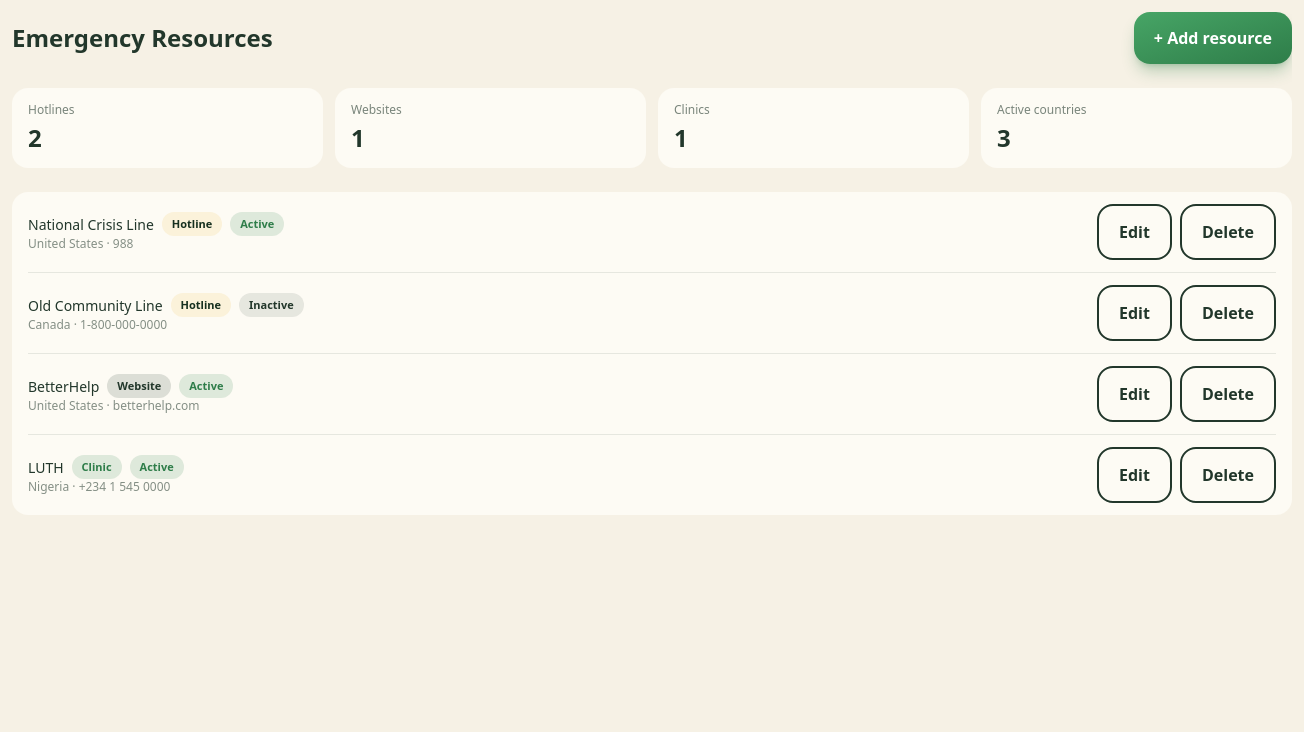
it: AdminEmergencyPage › deleting a resource › invalidates the emergency dashboard query and closes the confirm row after a successful delete
Click the button "Delete" in the row of "betterhelp.com" at (1228, 394), box [1180, 366, 1276, 422]
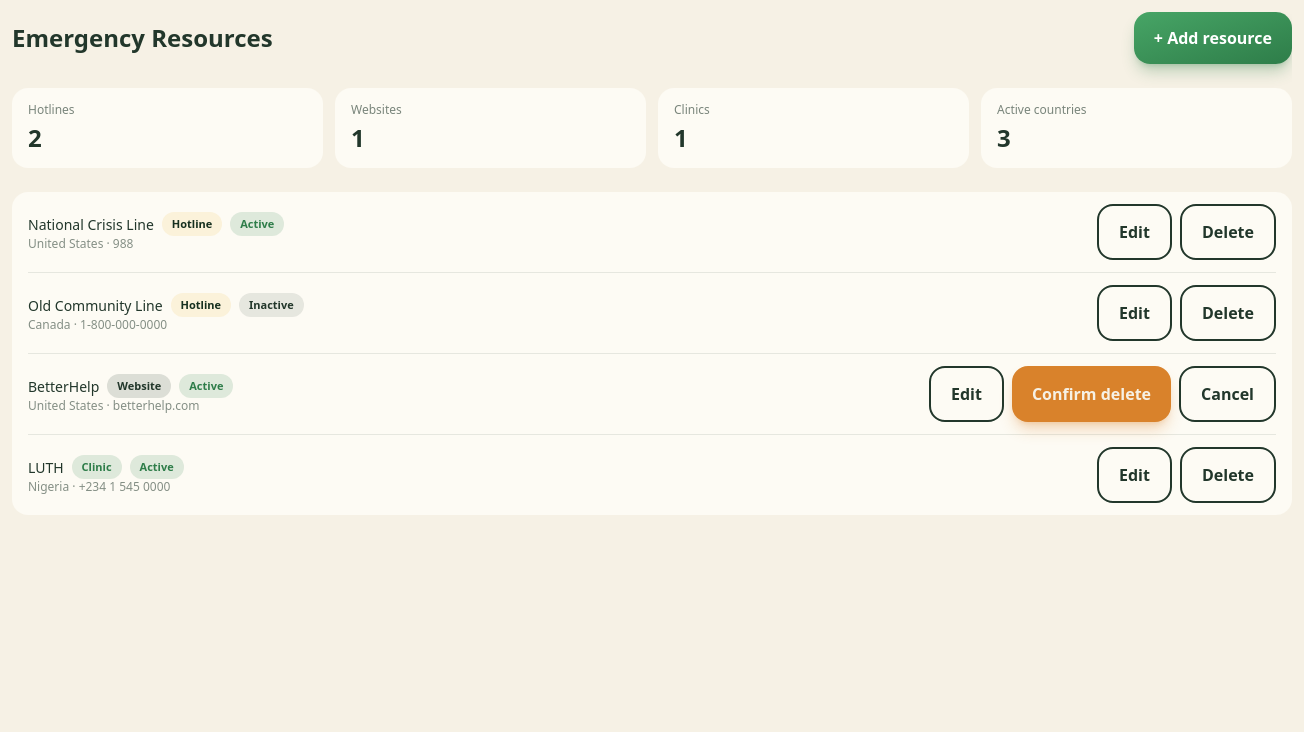
Click the button with aria-label "Confirm delete BetterHelp" at (1091, 394), box [1012, 366, 1171, 422]
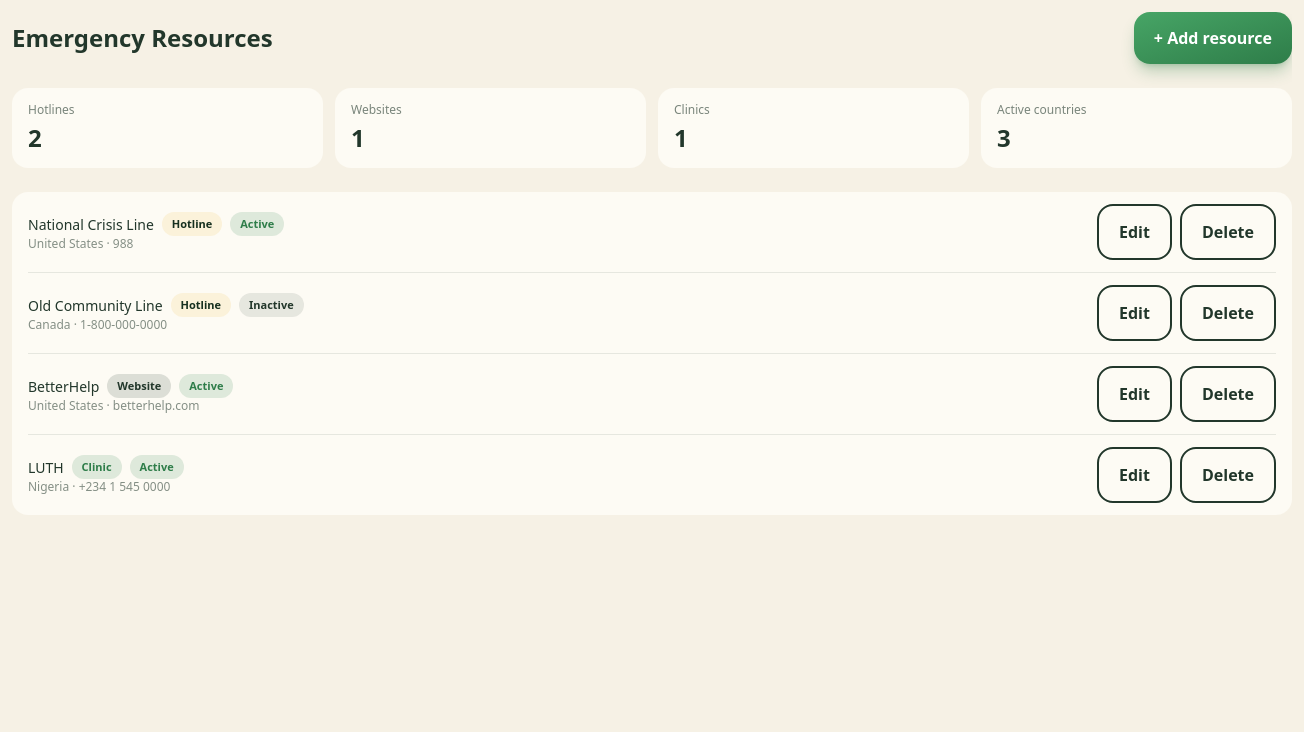
Check: the number of buttons "Delete" is 4, box [1180, 204, 1276, 260]; [1180, 285, 1276, 341]; [1180, 366, 1276, 422]; [1180, 447, 1276, 503]
